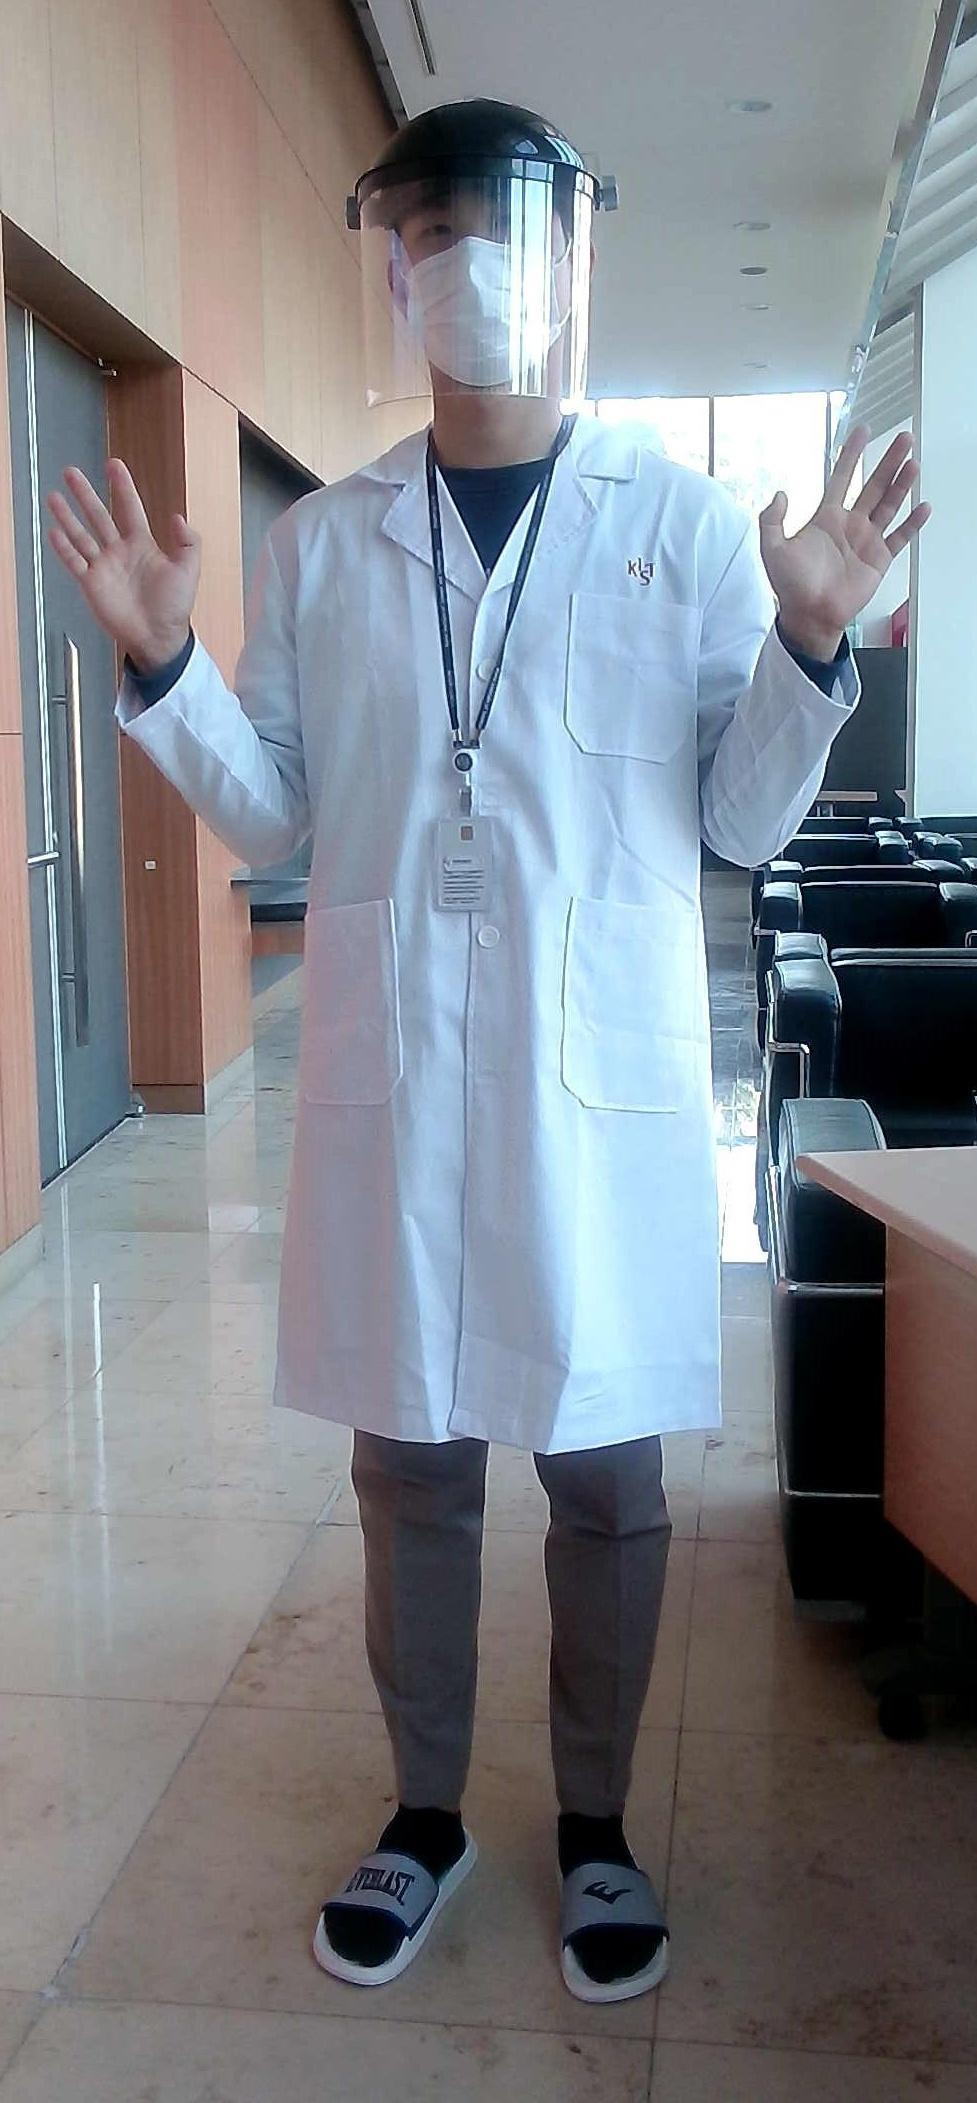lab_coat: (244, 511, 761, 1411)
